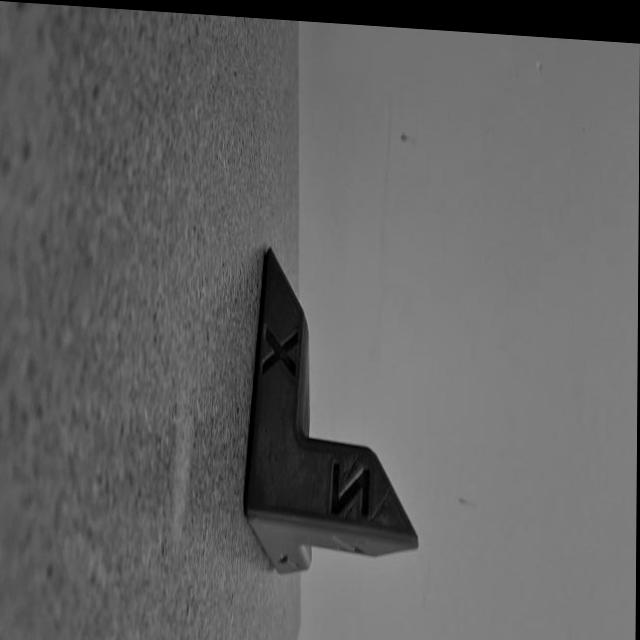eje: (240, 239, 426, 590)
